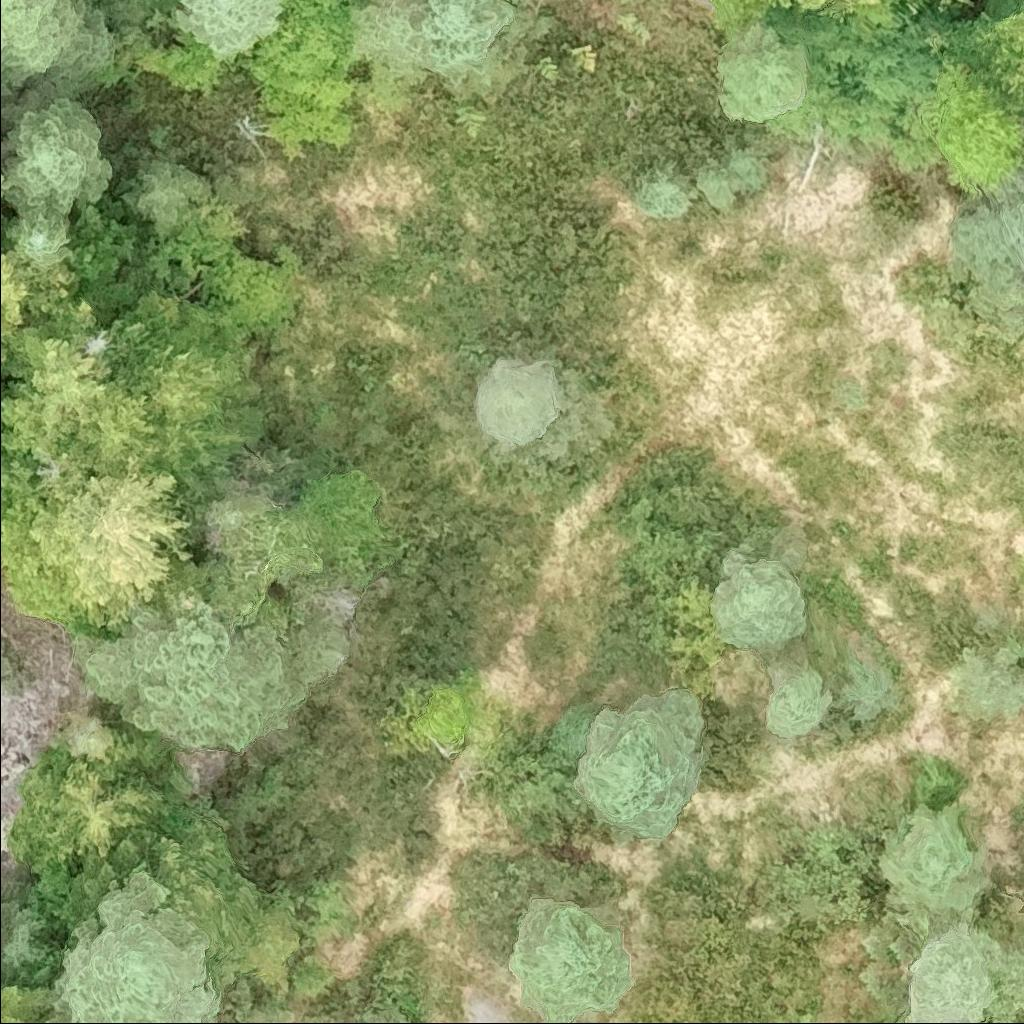crown: (69, 607, 348, 756), (25, 450, 196, 630), (61, 871, 224, 1023), (9, 742, 170, 872), (574, 685, 706, 841), (505, 896, 637, 1023), (140, 348, 256, 473), (1, 97, 115, 215), (879, 805, 986, 918), (935, 59, 1023, 190), (14, 337, 116, 441), (951, 169, 1023, 316), (290, 471, 383, 582), (713, 548, 809, 650), (0, 0, 92, 99), (717, 23, 808, 122), (906, 924, 995, 1023), (471, 356, 560, 447), (430, 0, 518, 85), (352, 0, 437, 88), (177, 0, 283, 65), (963, 9, 1023, 113), (956, 645, 1023, 725), (766, 662, 829, 737), (6, 205, 72, 276), (0, 249, 40, 340), (418, 688, 469, 757), (551, 704, 602, 761), (710, 0, 770, 39), (361, 1009, 414, 1023), (0, 174, 5, 196)
